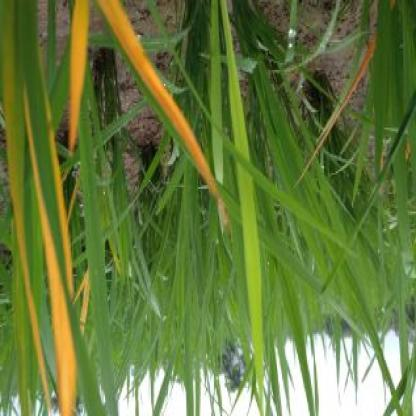Tungro: (12, 137, 88, 410), (64, 8, 105, 164)
